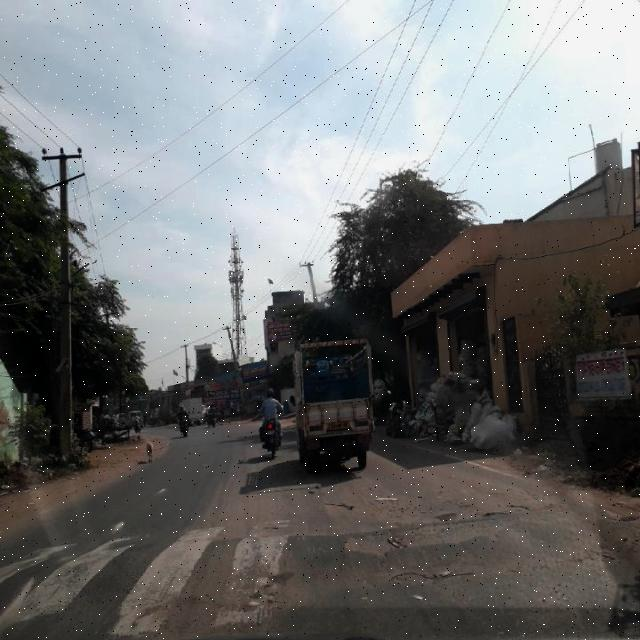D40: (340, 494, 514, 566)
D43: (1, 503, 579, 627)
